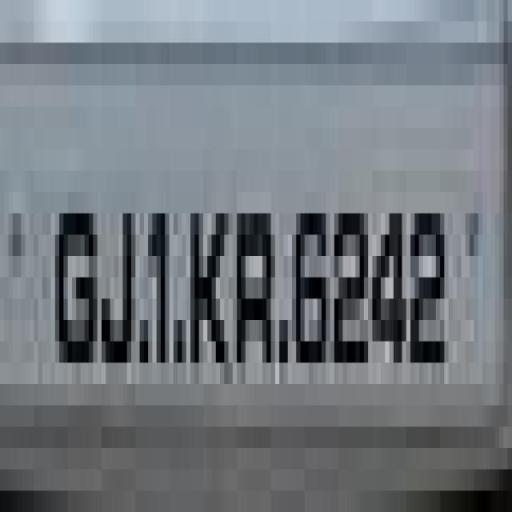number plate: (14, 24, 508, 472)
